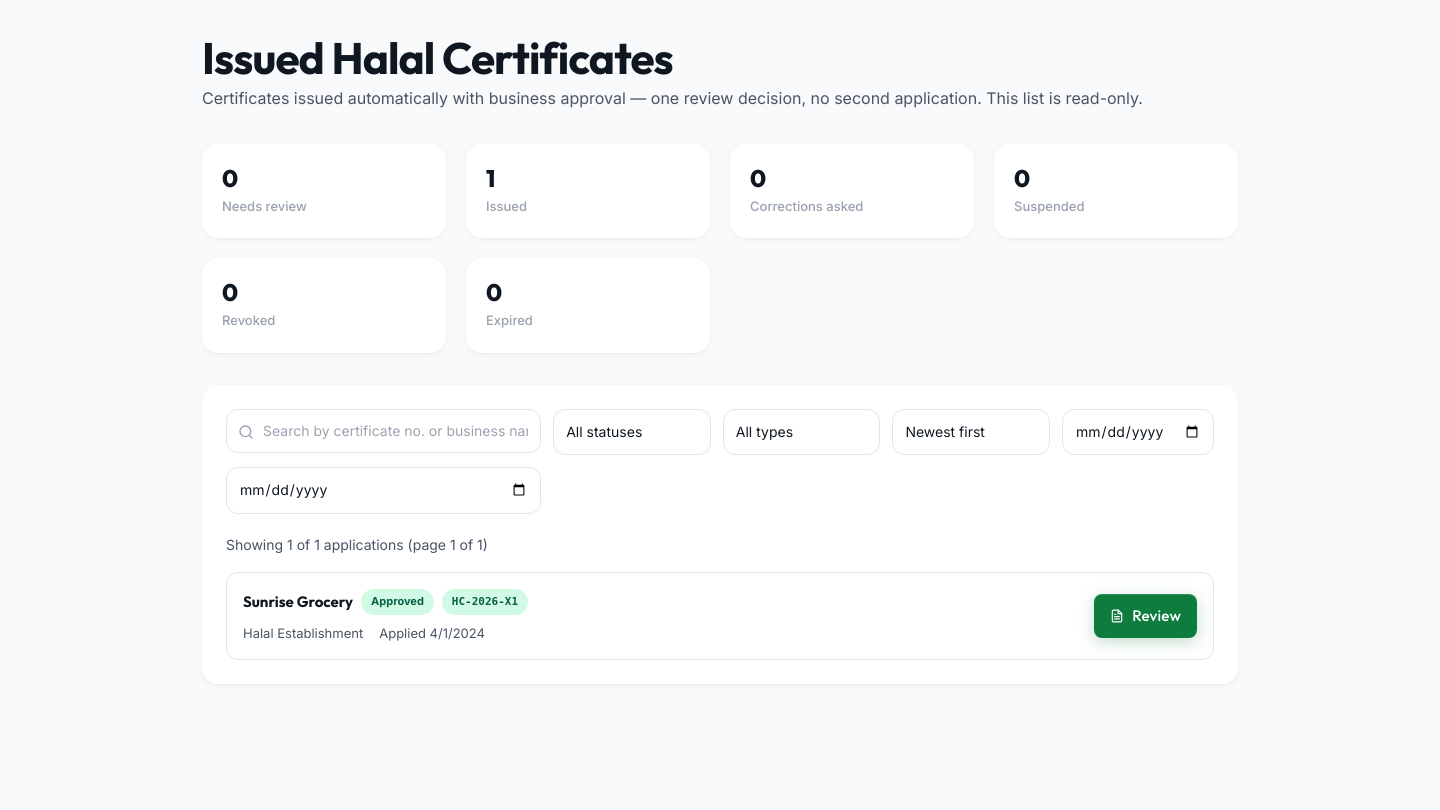
AdminCertifications (read-only issued list) › opens a read-only detail with no second decision
Expected: the heading "Sunrise Grocery" is shown, [243,593,353,611]
Click the button "Review" at (1146, 616), box [1094,594,1197,638]
(page scrolled)
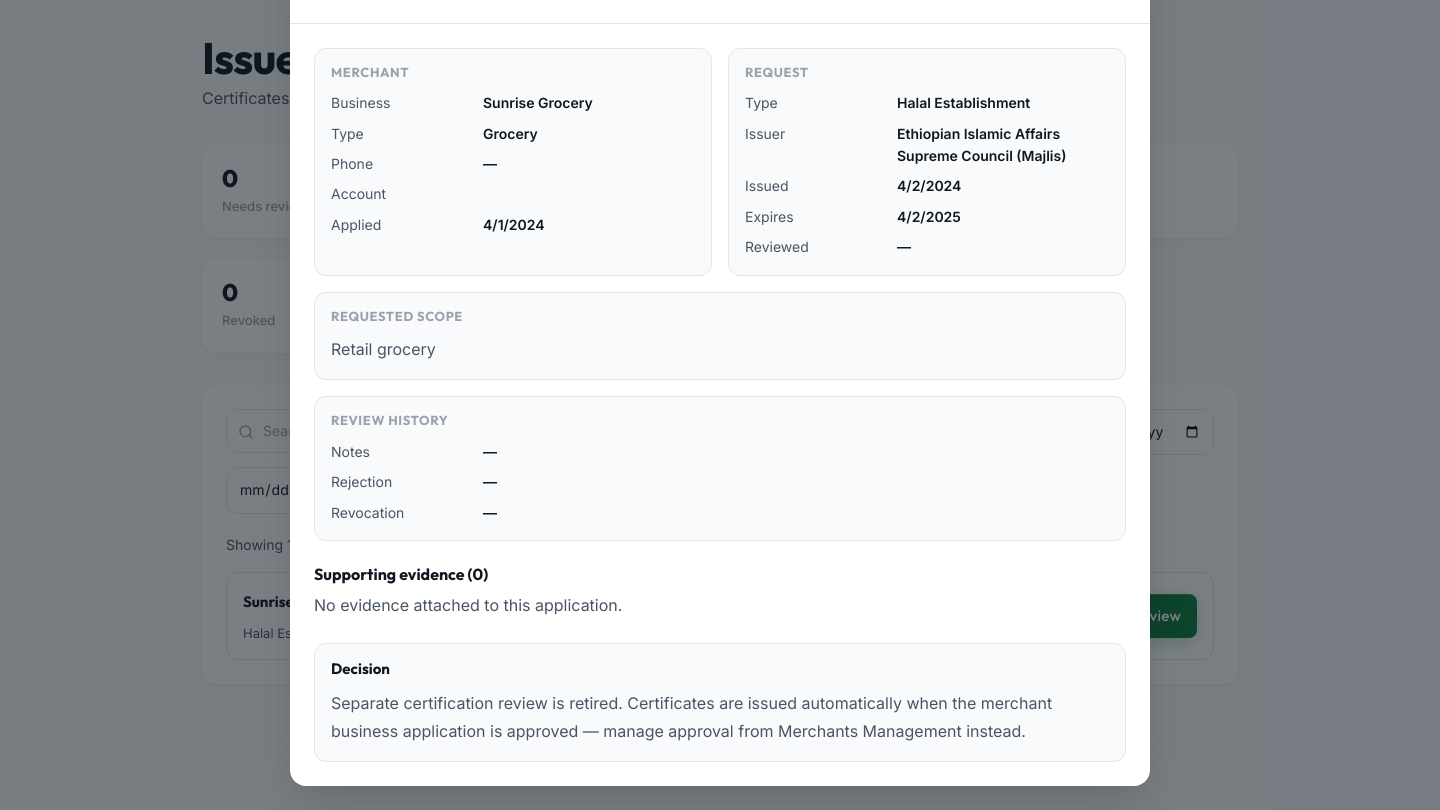
Expected: the text "Separate certification review is retired" is shown, [331,694,1052,741]
